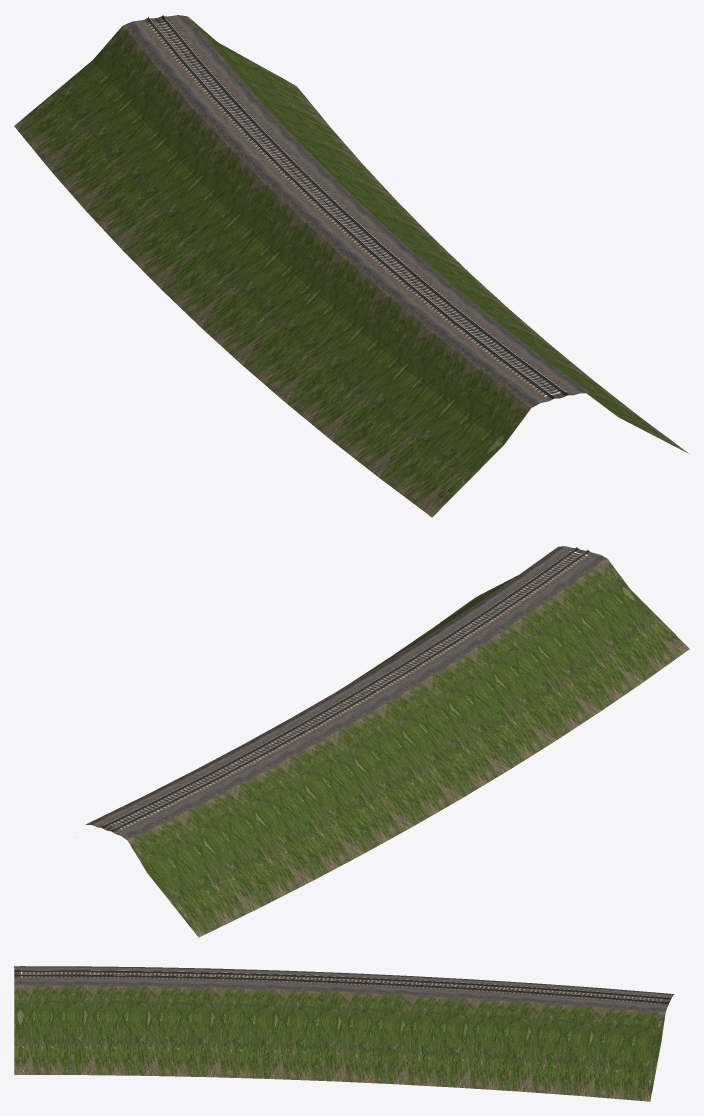
The model's file is tracks_1track500r.gltf.
3 renders of one model, top to bottom at view 1: azimuth 30°, elevation 25°; view 2: azimuth 150°, elevation 25°; view 3: azimuth 270°, elevation 25°, orthographic. The views are drawn at different scales.
Parts seen in each view (by area): view 1: tracks_1track500r; view 2: tracks_1track500r; view 3: tracks_1track500r.
Boxes of the visible parts, <box> form: tracks_1track500r: <box>14,15,688,517</box>; tracks_1track500r: <box>85,546,689,937</box>; tracks_1track500r: <box>14,966,674,1101</box>.
Size of the model in its own units: 40.75 by 10.36 by 105.
1 material, 1 textured.
